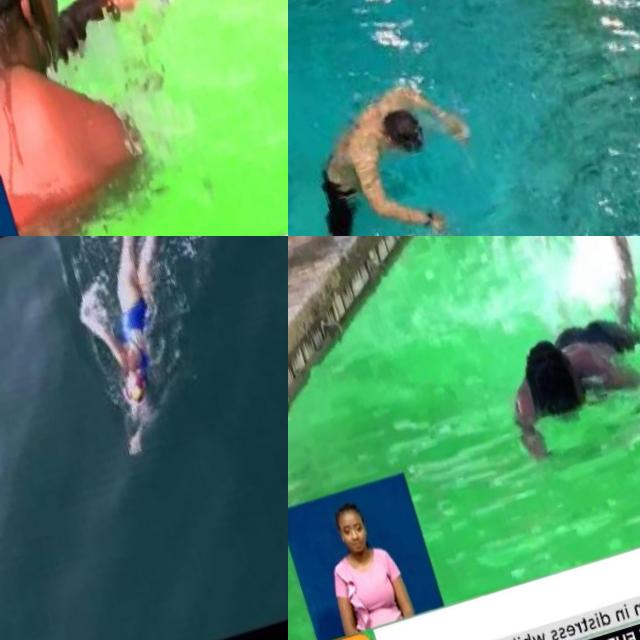drowning: (288, 56, 519, 236)
swimming: (441, 236, 640, 482), (0, 0, 198, 236), (49, 236, 235, 447)
